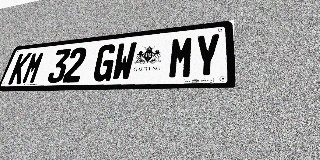2: (62, 47, 88, 83)
3: (46, 48, 72, 83)
G: (91, 44, 118, 82)
K: (7, 52, 32, 84)
M: (167, 36, 195, 79), (21, 51, 46, 84)
W: (111, 42, 137, 81)
Y: (193, 33, 220, 78)
